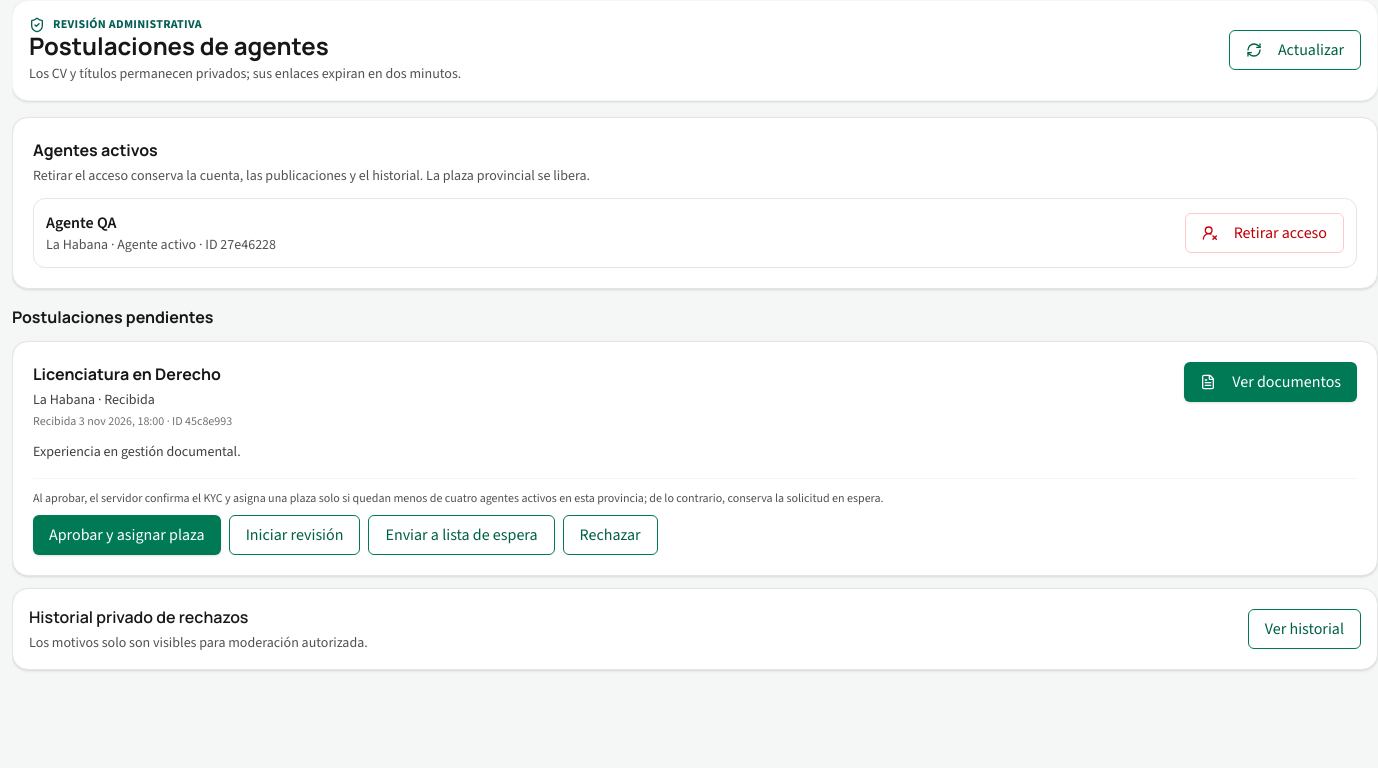
Scenario: AgentApplicationsModerationTab › shows when an approval receives a province place
Click the button "Aprobar y asignar plaza".
click(127, 535)  # box [33, 515, 221, 555]
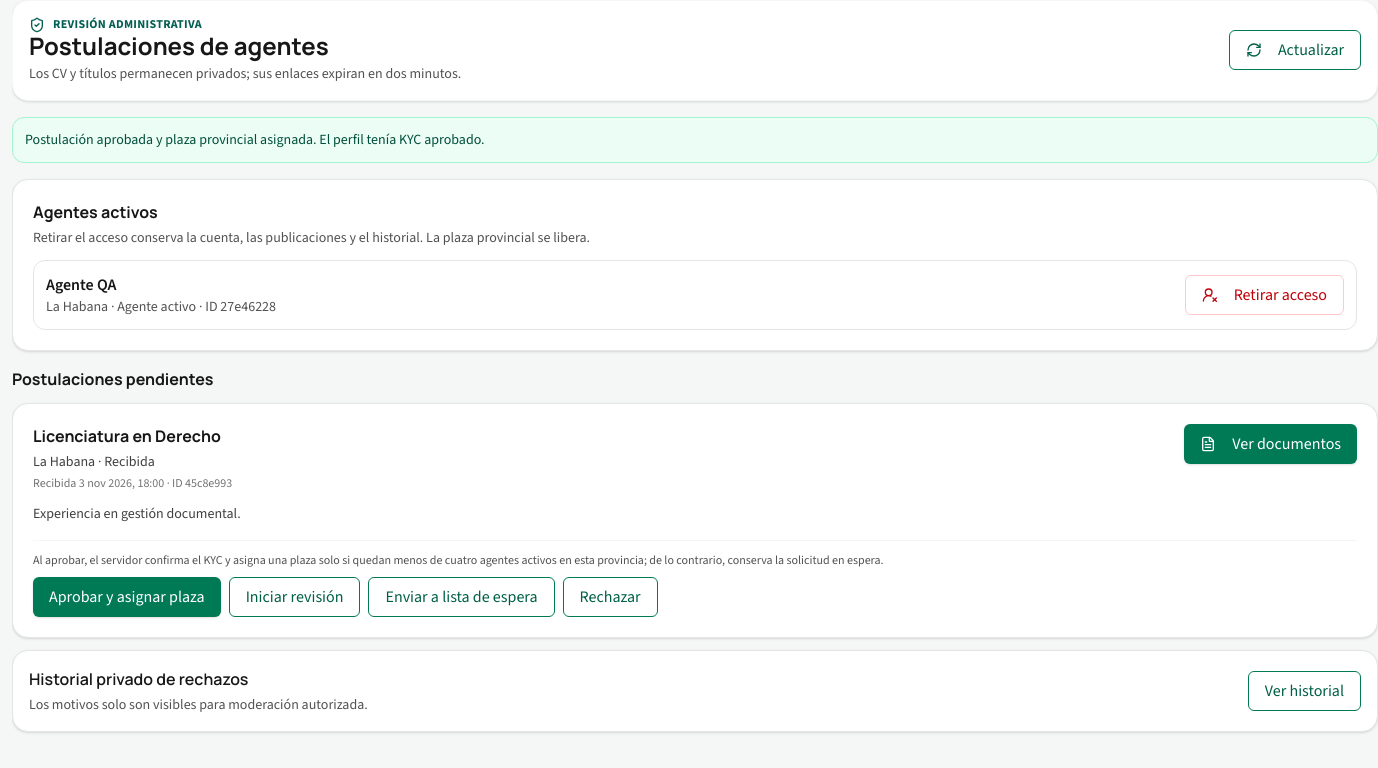
Now the message shows "plaza provincial asignada", box [25, 130, 485, 150]
